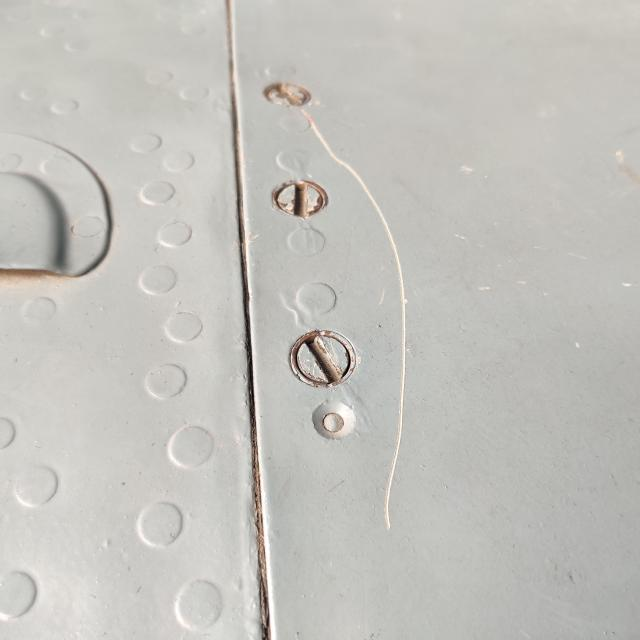scratch: (282, 100, 428, 544)
